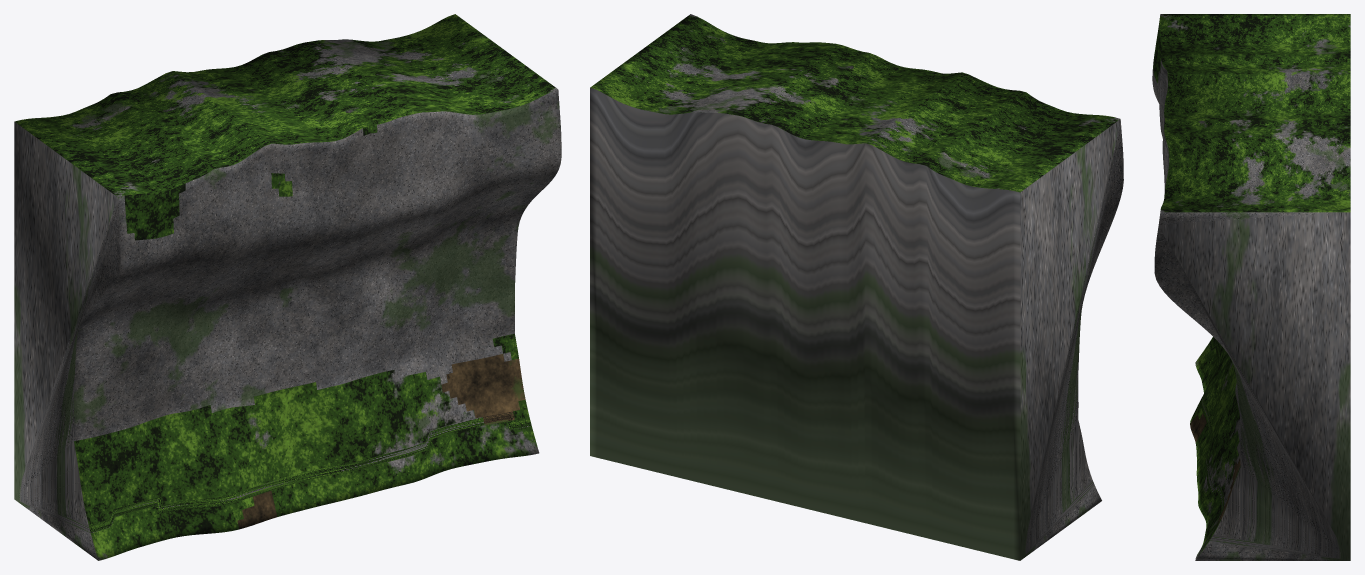
Rendered from Cliff_Face_C.glb.
3 views of the same model, side by side, from view 1: azimuth 30°, elevation 25°; view 2: azimuth 150°, elevation 25°; view 3: azimuth 270°, elevation 25° (orthographic). The views are drawn at different scales.
Parts seen in each view (by area): view 1: Cliff_Face_C__Stone; view 2: Cliff_Face_C__Stone; view 3: Cliff_Face_C__Stone.
Part boxes in pixels (bbox=[...]): Cliff_Face_C__Stone: bbox=[14, 14, 561, 560]; Cliff_Face_C__Stone: bbox=[590, 14, 1123, 560]; Cliff_Face_C__Stone: bbox=[1152, 14, 1350, 560].
Size of the model in its own units: 16 by 13.51 by 6.75.
Materials: 1 (1 with a texture image).
